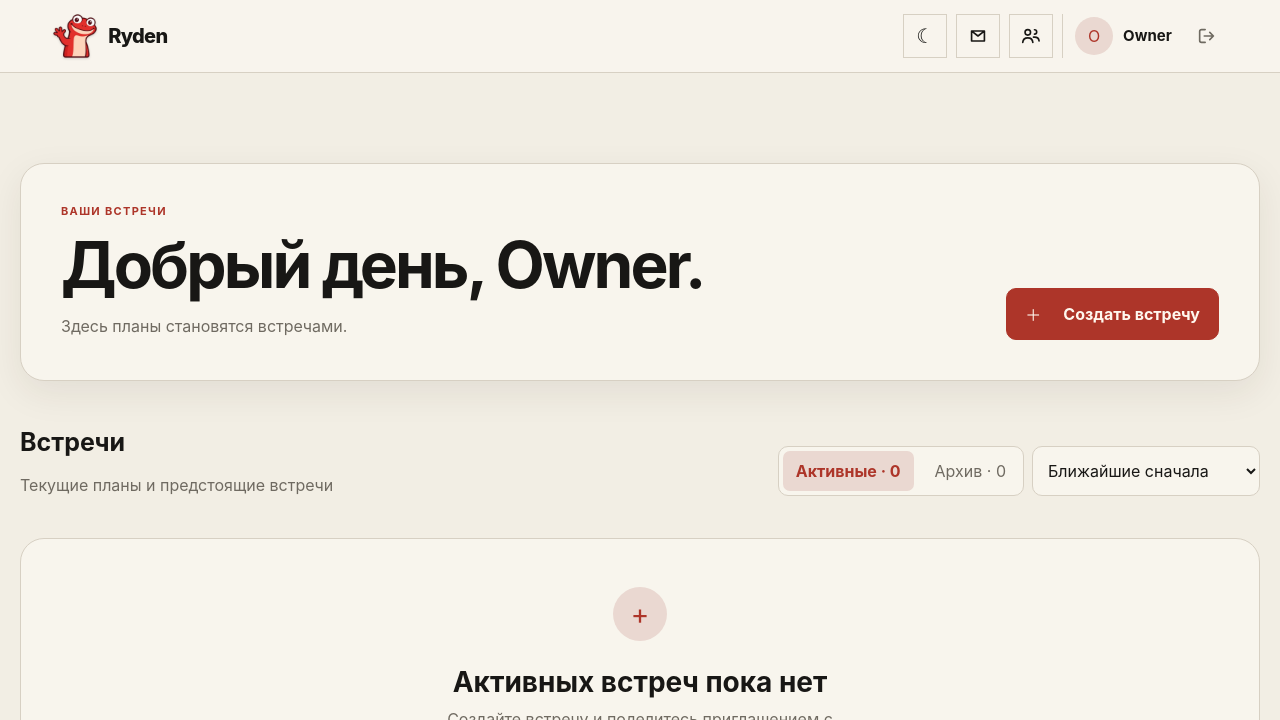
Test: App › updates the current profile from the header editor
This screenshot has width=1280, height=720.
Check: the dropdown named "Сортировка встреч" shows "Ближайшие сначала", box [1032,446,1260,496]
Click the button with aria-label "Редактировать профиль": x=1119, y=36 [1062,14,1176,58]
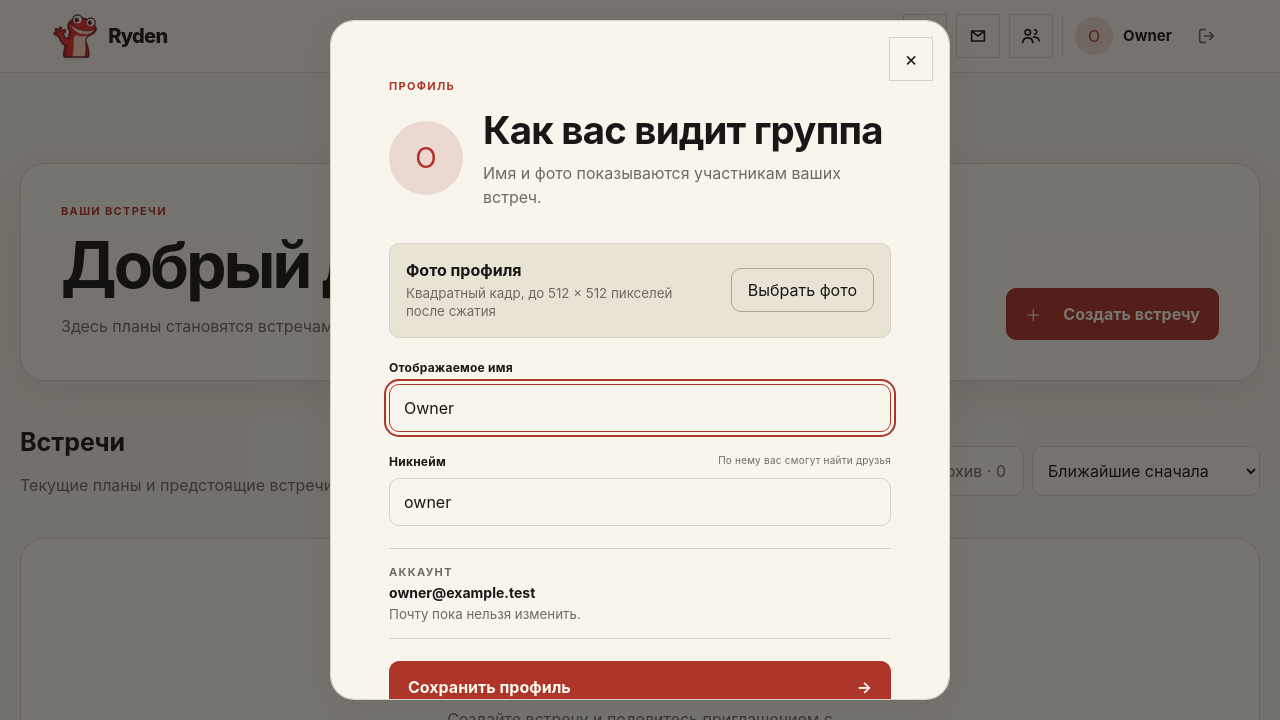
Check: the dialog "Как вас видит группа" is shown, box [330,20,950,700]
Replace the text in the field labelled "Отображаемое имя" with "Анна Р.": x=640, y=408 [389,384,891,432]
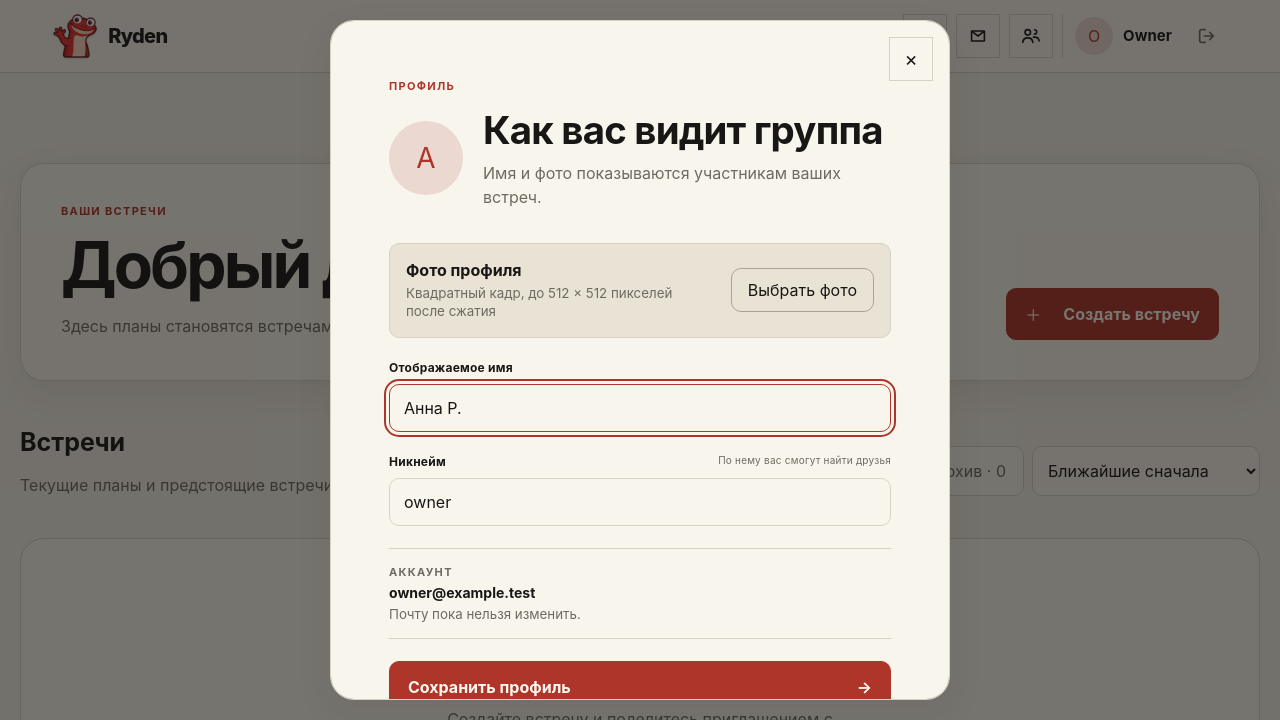
Check: the button "Выбрать фото" is shown, box [731,268,874,312]
Click the button "Сохранить профиль →": x=489, y=687 [389,661,891,713]
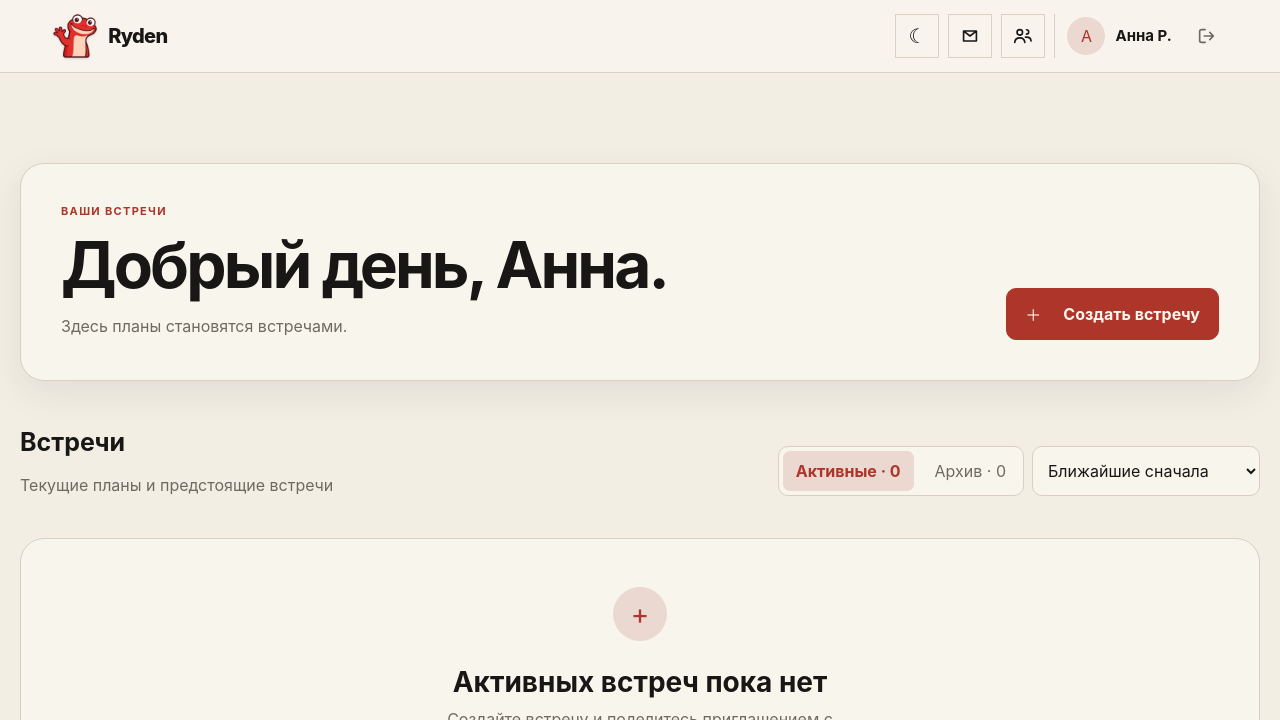
Check: the heading "Как вас видит группа" is gone
Check: the text "Анна Р." is shown, box [1116,27,1172,45]
